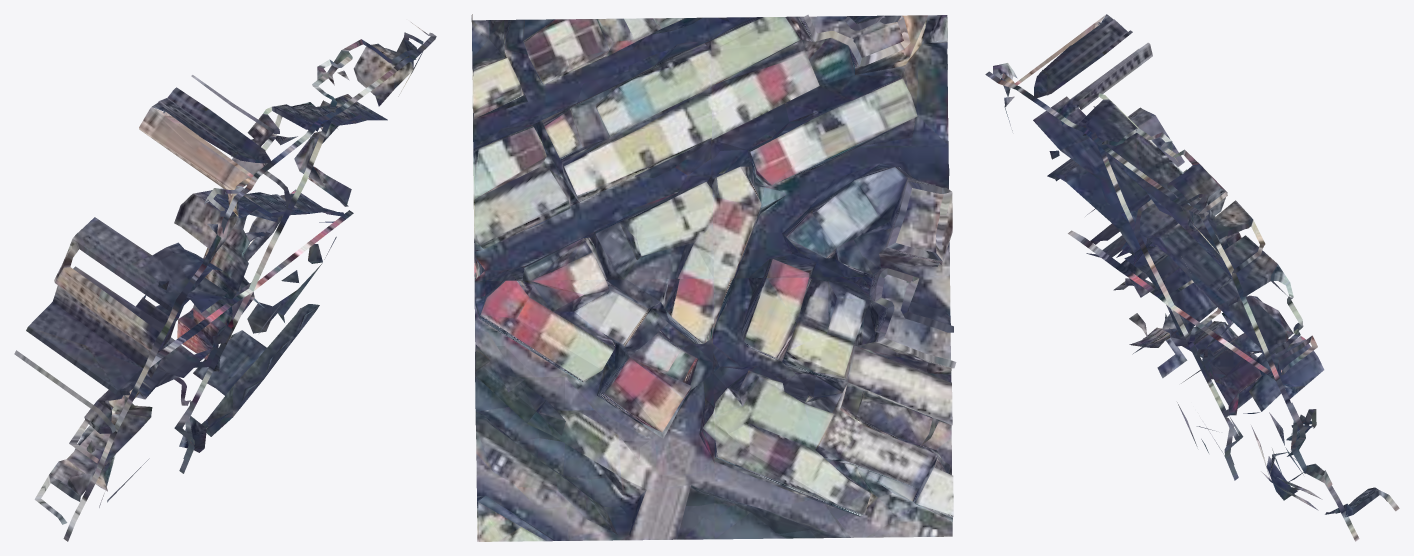
3 renders of one model, left to right at view 1: azimuth 30°, elevation 25°; view 2: azimuth 150°, elevation 25°; view 3: azimuth 270°, elevation 25°, orthographic. The views are drawn at different scales.
Bounding box in the file's own units: 163 × 160 × 143.
1 material, 1 textured.
